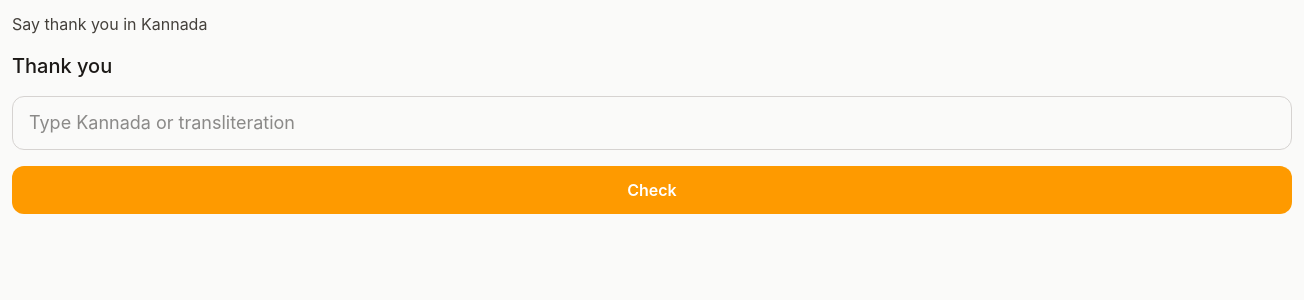
Test: ExerciseRenderer submit slot › does not leave a disabled Check next to Continue for typed answers
Later steps or results of the test are not shown.
Type "dhanyavada" into the field with placeholder "Type Kannada or transliteration" at (652, 123), box [12,96,1292,150]
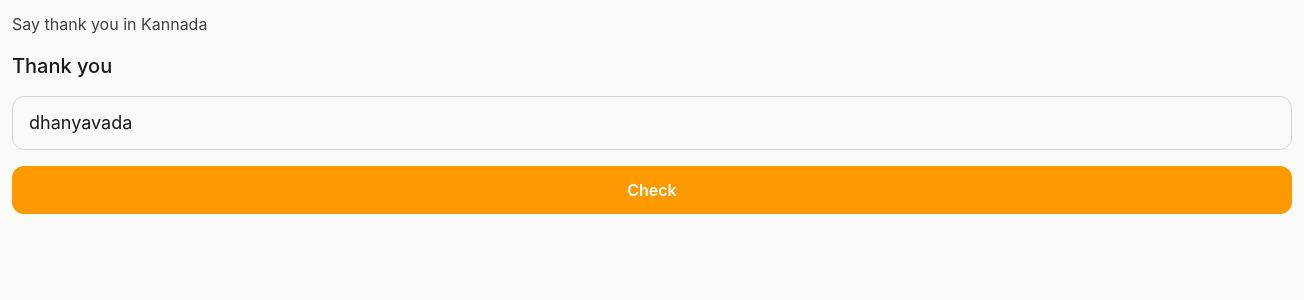
Click the button "Check" at (652, 190), box [12,166,1292,214]
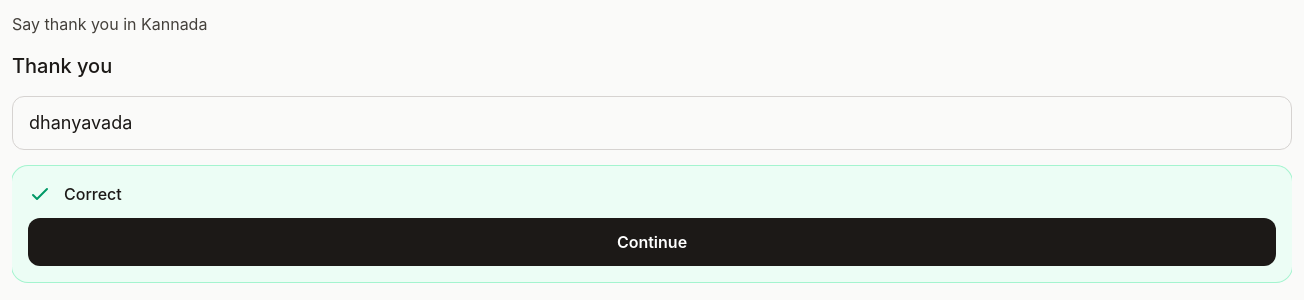
Expected: the button "Check" is gone
Expected: the button "Continue" is shown, [28,218,1276,266]
